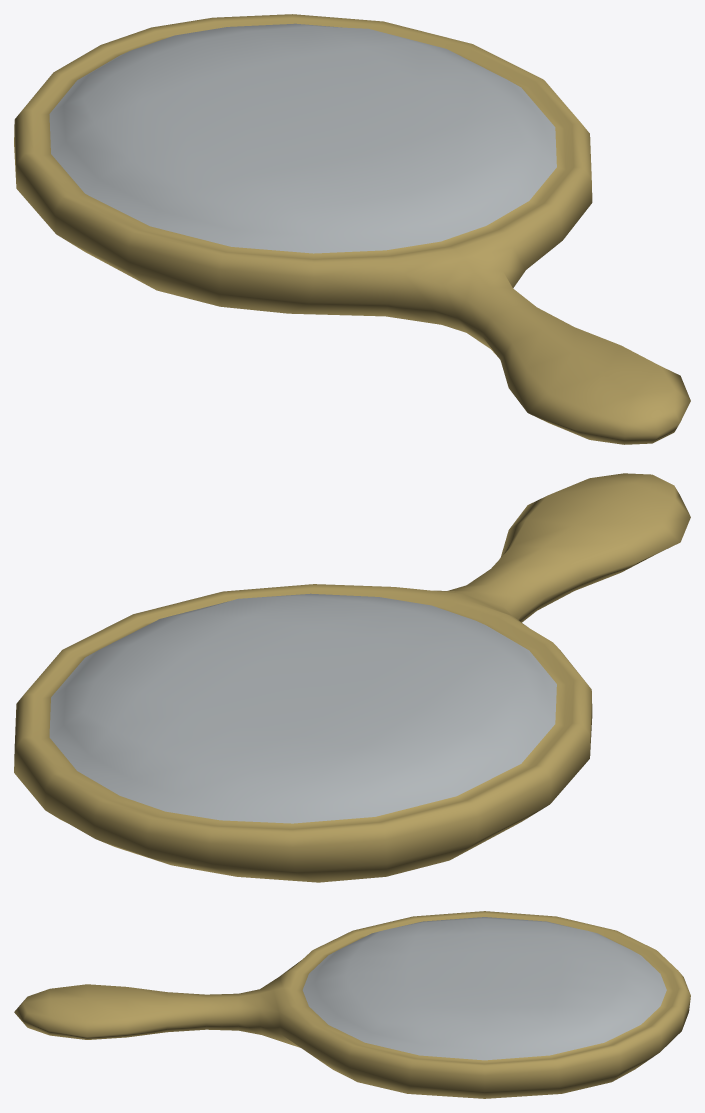
Rendered from Espejo.fbx.
The picture shows the model from 3 angles, top to bottom: view 1: azimuth 30°, elevation 25°; view 2: azimuth 150°, elevation 25°; view 3: azimuth 270°, elevation 25°; orthographic projection. The views are drawn at different scales.
Visible parts, largest first — view 1: Cube.003; view 2: Cube.003; view 3: Cube.003.
Boxes of the visible parts, box(x1,y1,x2,y2) form: Cube.003: box(14, 14, 690, 444); Cube.003: box(14, 473, 690, 882); Cube.003: box(14, 911, 690, 1098).
Size of the model in its own units: 31.72 by 6.16 by 56.71.
